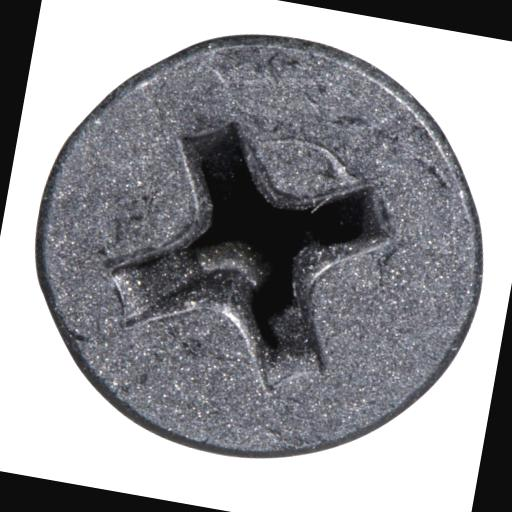Phillips: (2, 0, 512, 493)
